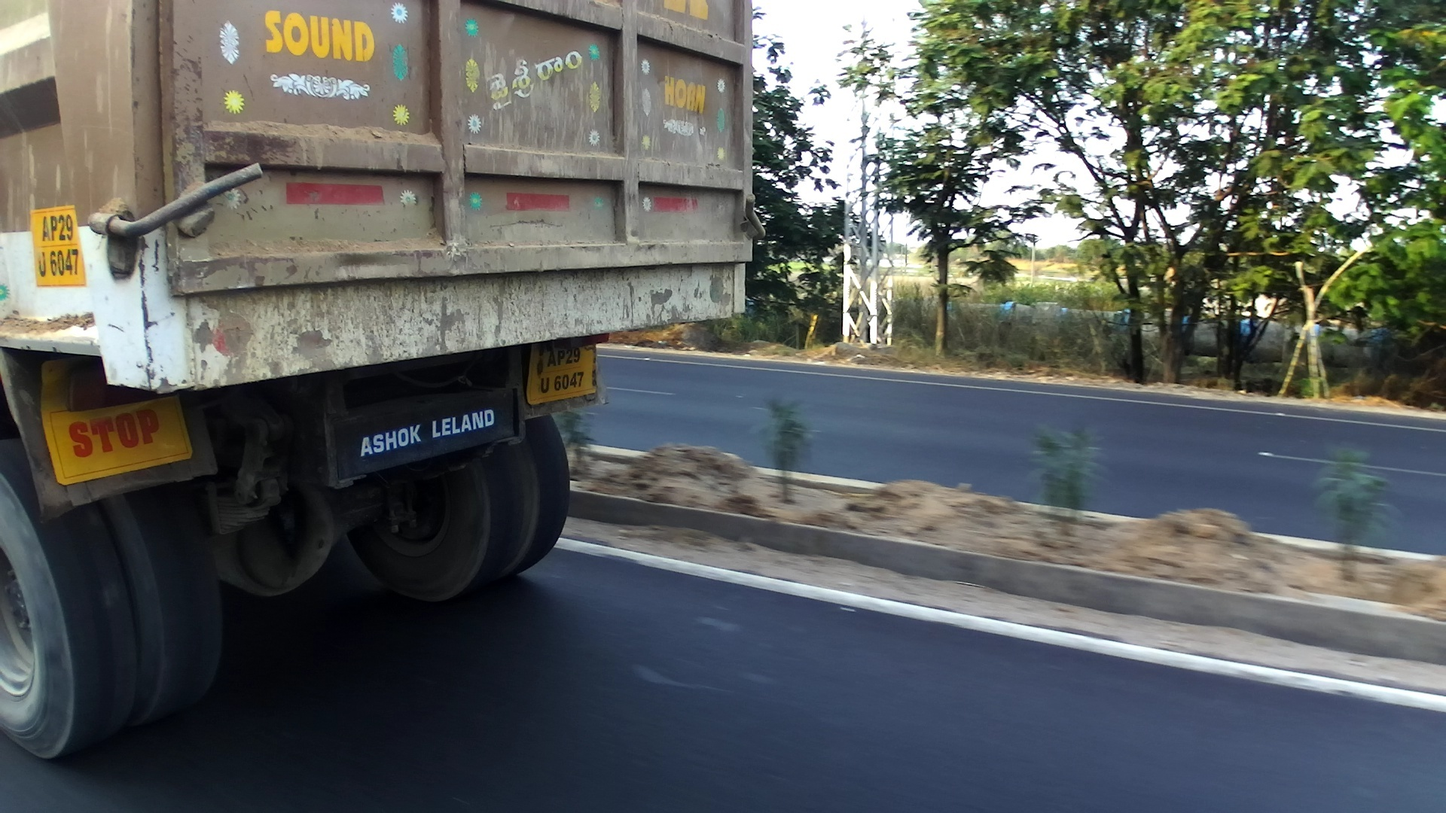truck: (1, 1, 766, 764)
